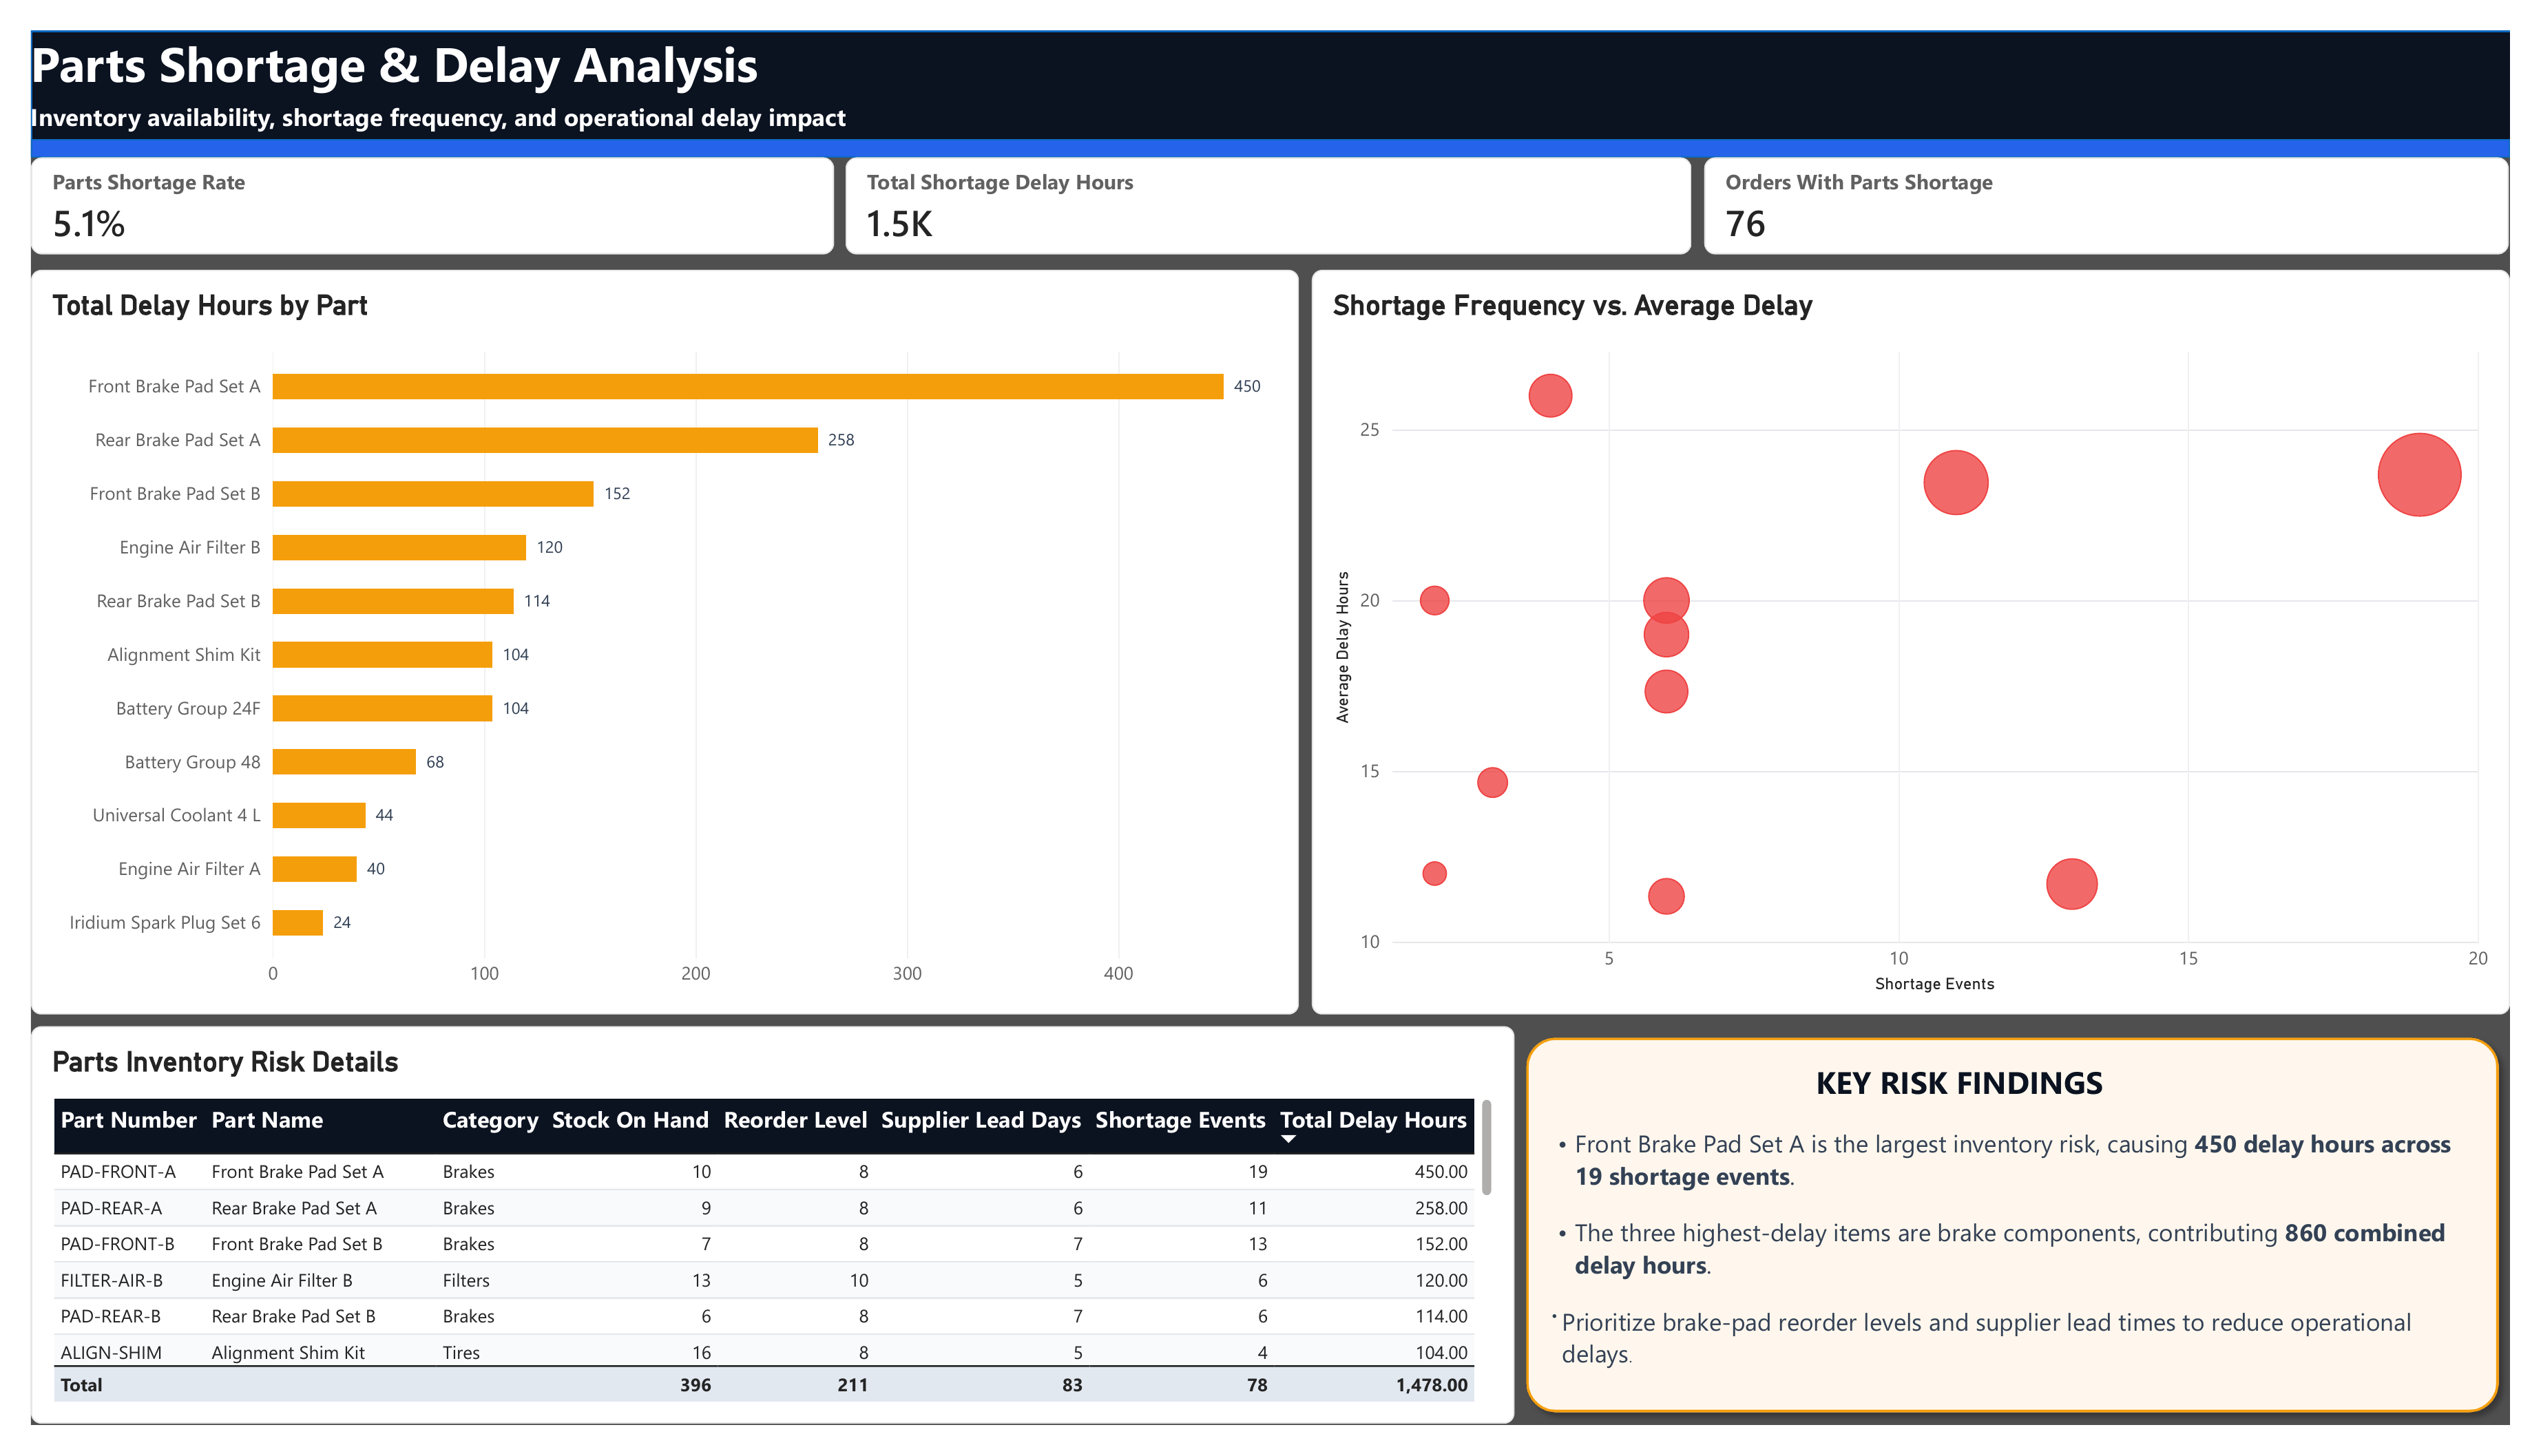

The dashboard page shown, as its layout file describes it:
{"tool":"powerbi","page":{"name":"Parts & Delays","canvas":[1920,1080],"ordinal":1},"visuals":[{"type":"shape","box":[0,0,1920.5,98.1],"z":0},{"type":"shape","box":[0,84.4,1920,14.1],"z":1000},{"type":"textbox","box":[0,0,595,53.9],"z":2000},{"type":"textbox","box":[0,53.9,641.5,31.6],"z":3000},{"type":"cardVisual","fields":{"Data":["vw_RepairOrderPerformance.Parts Shortage Rate"]},"box":[0,98.5,621.5,74.9],"z":4000},{"type":"cardVisual","fields":{"Data":["vw_PartsShortageImpact.Total Shortage Delay Hours"]},"box":[631.2,98.5,654.8,74.9],"z":5000},{"type":"cardVisual","fields":{"Data":["vw_RepairOrderPerformance.Orders With Parts Shortage"]},"box":[1295.7,98.5,622.9,74.9],"z":6000},{"type":"clusteredBarChart","title":"Total Delay Hours by Part","fields":{"Category":["vw_PartsShortageImpact.PartName"],"Y":["vw_PartsShortageImpact.Total Shortage Delay Hours"]},"box":[0,184.5,982.2,577.1],"z":7000},{"type":"scatterChart","title":"Shortage Frequency vs. Average Delay","fields":{"Category":["vw_PartsShortageImpact.PartName"],"Size":["Sum(vw_PartsShortageImpact.TotalDelayHours)"],"X":["Sum(vw_PartsShortageImpact.ShortageEvents)"],"Y":["Sum(vw_PartsShortageImpact.AverageDelayHours)"]},"box":[991.9,184.5,928.1,577.1],"z":8000},{"type":"tableEx","title":"Parts Inventory Risk Details","fields":{"Values":["vw_PartsShortageImpact.PartNumber","vw_PartsShortageImpact.PartName","vw_PartsShortageImpact.Category","Sum(vw_PartsShortageImpact.StockOnHand)","Sum(vw_PartsShortageImpact.ReorderLevel)","Sum(vw_PartsShortageImpact.SupplierLeadDays)","Sum(vw_PartsShortageImpact.ShortageEvents)","Sum(vw_PartsShortageImpact.TotalDelayHours)"]},"box":[0,771.3,1148.7,308],"z":9000},{"type":"shape","box":[1149,771,771,308],"z":9001},{"type":"textbox","box":[1168.1,797.7,729.7,258],"z":9002}]}

Visuals, with their boxes in screenshot pixels (x1, y1, x2, y2), scaled from the page's 1920x1080 canvas onto the 2541x1456 screenshot:
shape: 0,0,2540,132
shape: 0,114,2540,133
textbox: 0,0,788,73
textbox: 0,73,849,115
cardVisual - vw_RepairOrderPerformance.Parts Shortage Rate: 0,133,822,234
cardVisual - vw_PartsShortageImpact.Total Shortage Delay Hours: 835,133,1702,234
cardVisual - vw_RepairOrderPerformance.Orders With Parts Shortage: 1715,133,2539,234
"Total Delay Hours by Part" clusteredBarChart: 0,249,1300,1026
"Shortage Frequency vs. Average Delay" scatterChart: 1313,249,2540,1026
"Parts Inventory Risk Details" tableEx: 0,1040,1520,1455
shape: 1520,1040,2540,1455
textbox: 1546,1075,2511,1423
